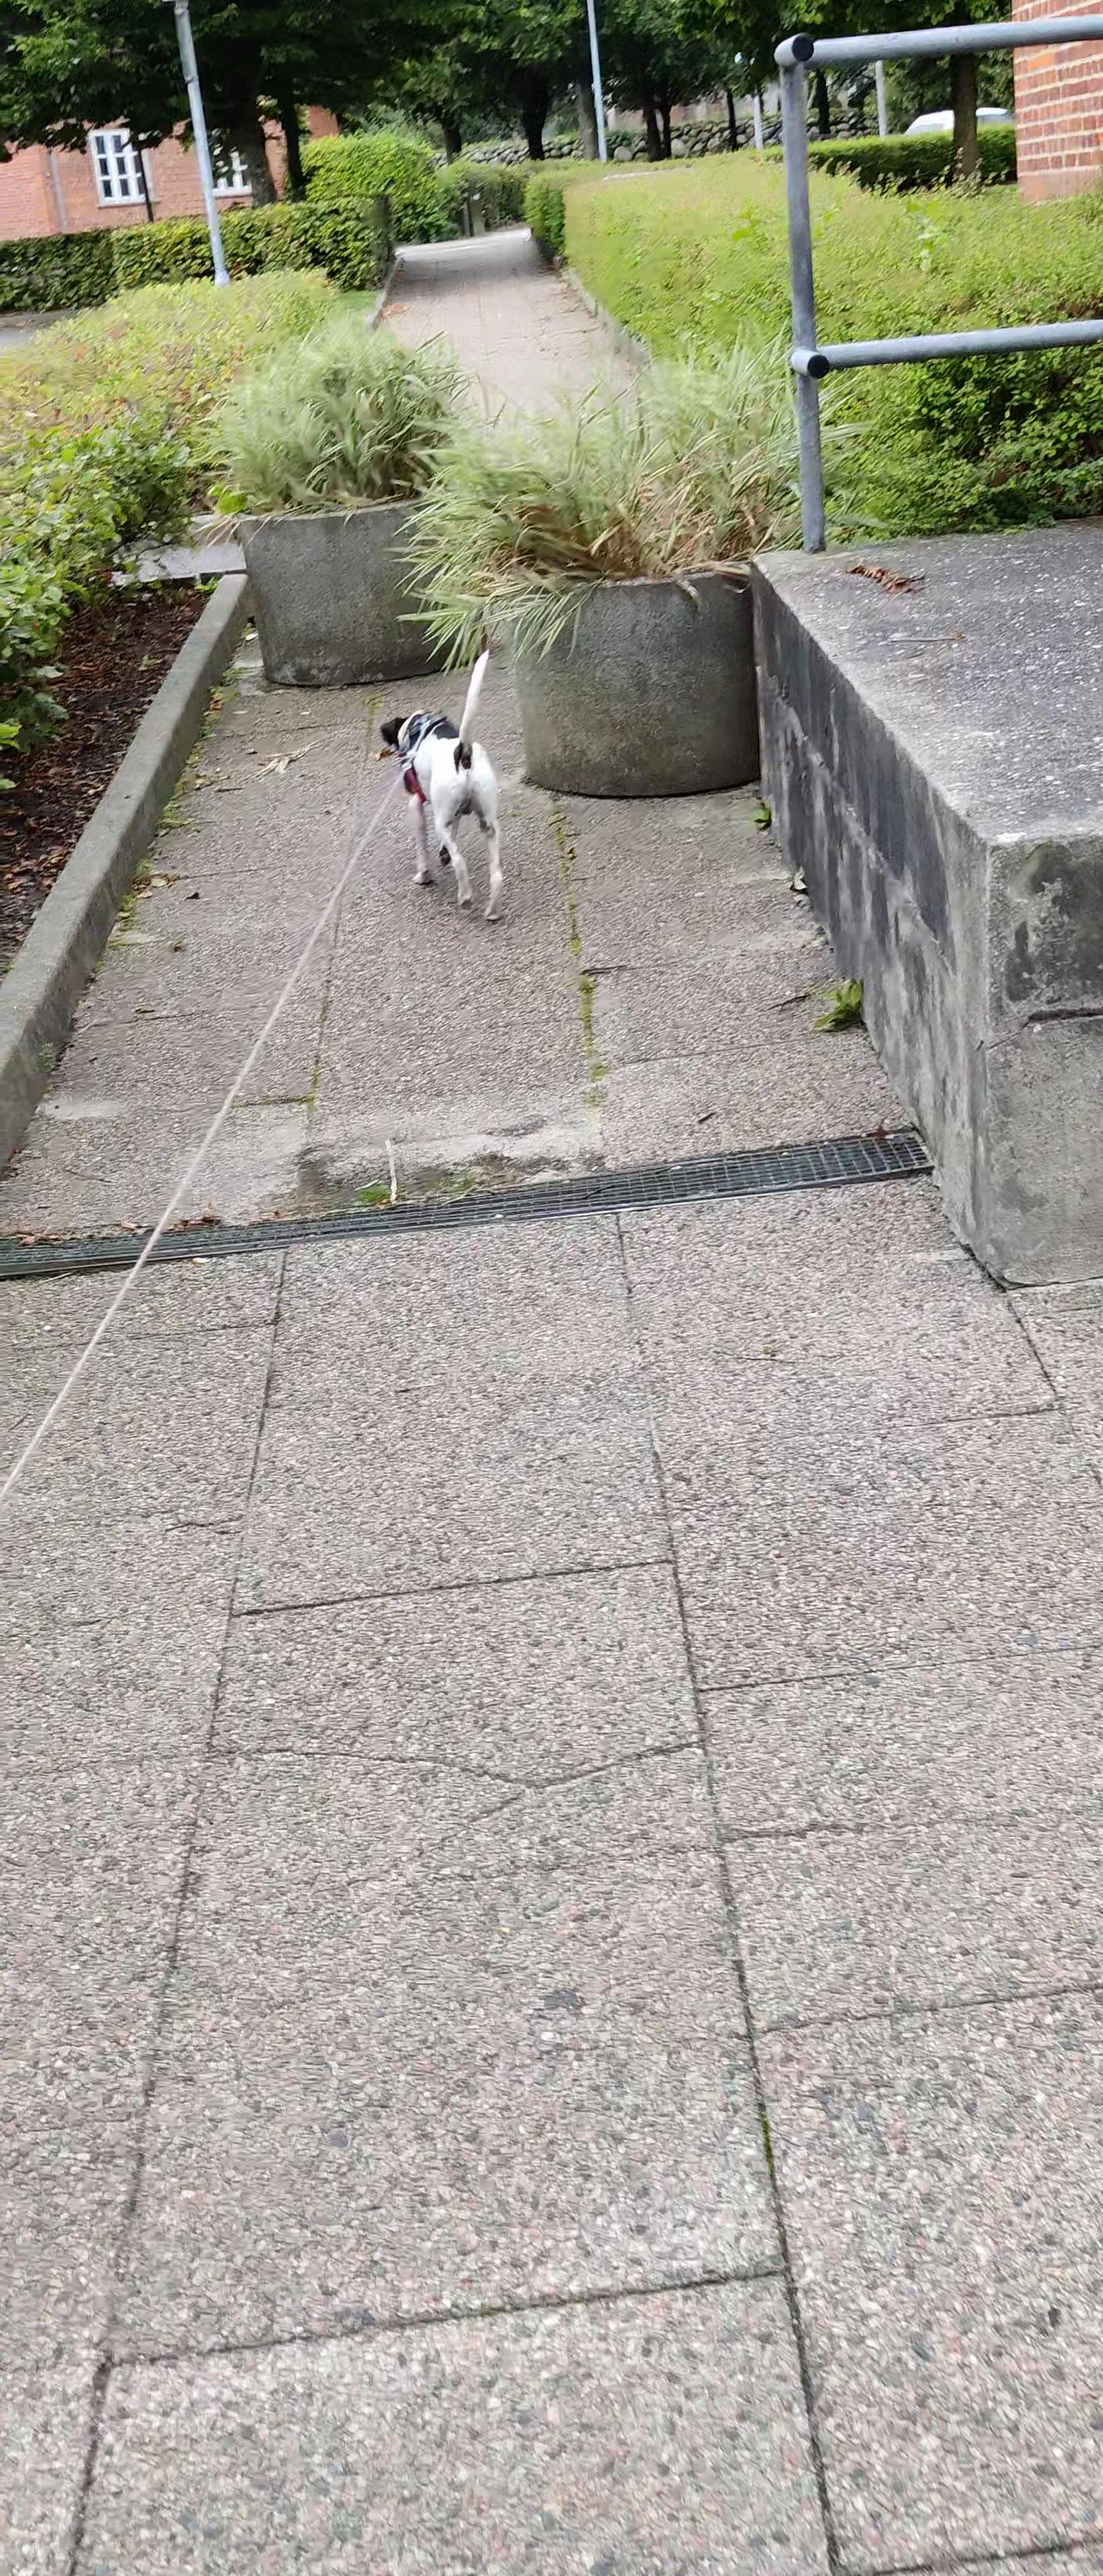Dog: (373, 646, 510, 923)
